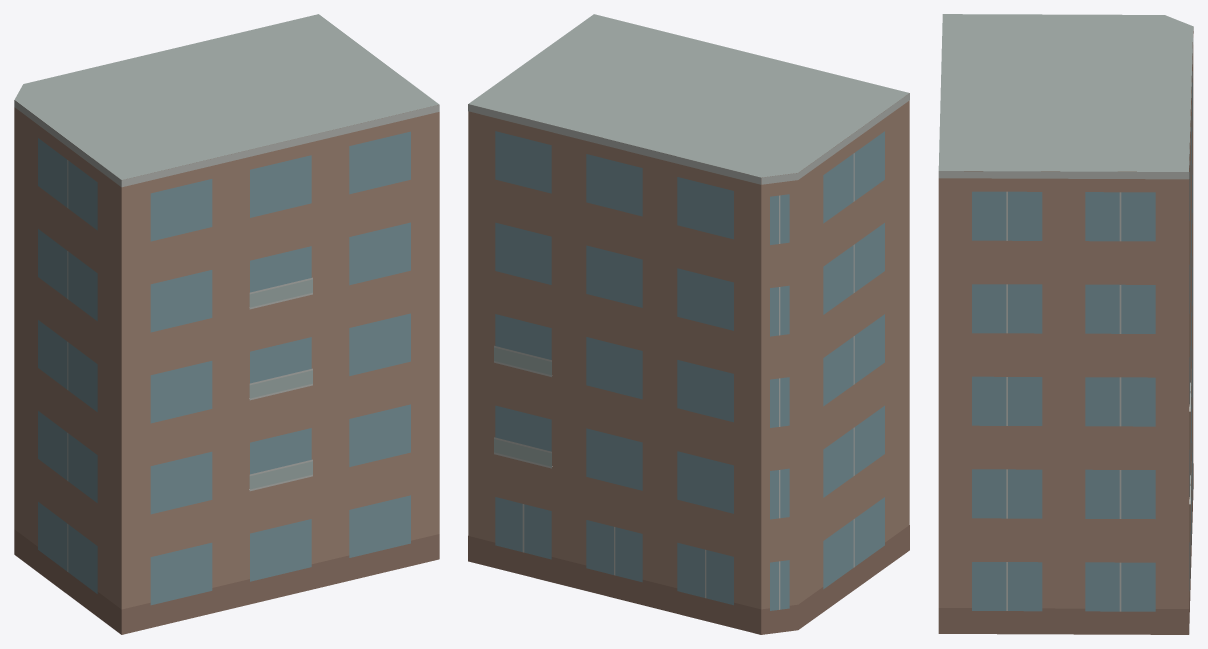
Rendered from survey-upis-32742588.glb.
3 renders of one model, left to right at view 1: azimuth 30°, elevation 25°; view 2: azimuth 150°, elevation 25°; view 3: azimuth 270°, elevation 25°, orthographic.
Parts seen in each view (by area): view 1: survey-upis-32742588.tmp; view 2: survey-upis-32742588.tmp; view 3: survey-upis-32742588.tmp.
Part boxes in pixels (x1,y1,x2,y2): survey-upis-32742588.tmp: [14, 14, 439, 634]; survey-upis-32742588.tmp: [468, 14, 909, 634]; survey-upis-32742588.tmp: [938, 14, 1193, 634].
Size of the model in its own units: 11.28 by 15.4 by 7.69.
